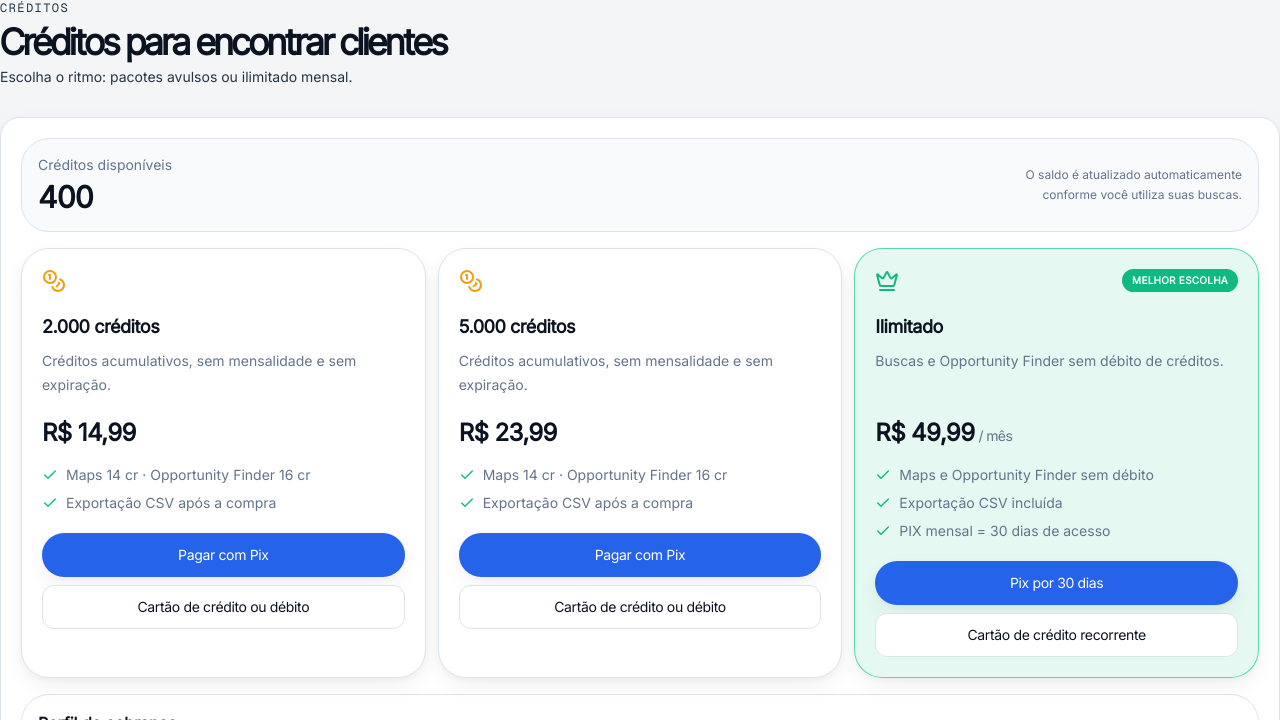
Test: CreditsPage › surfaces the API checkout error instead of a generic billing message
This screenshot has width=1280, height=720.
Click the button "Pagar com Pix" below "R$ 14,99": point(223, 555) 42,533 -> 405,577
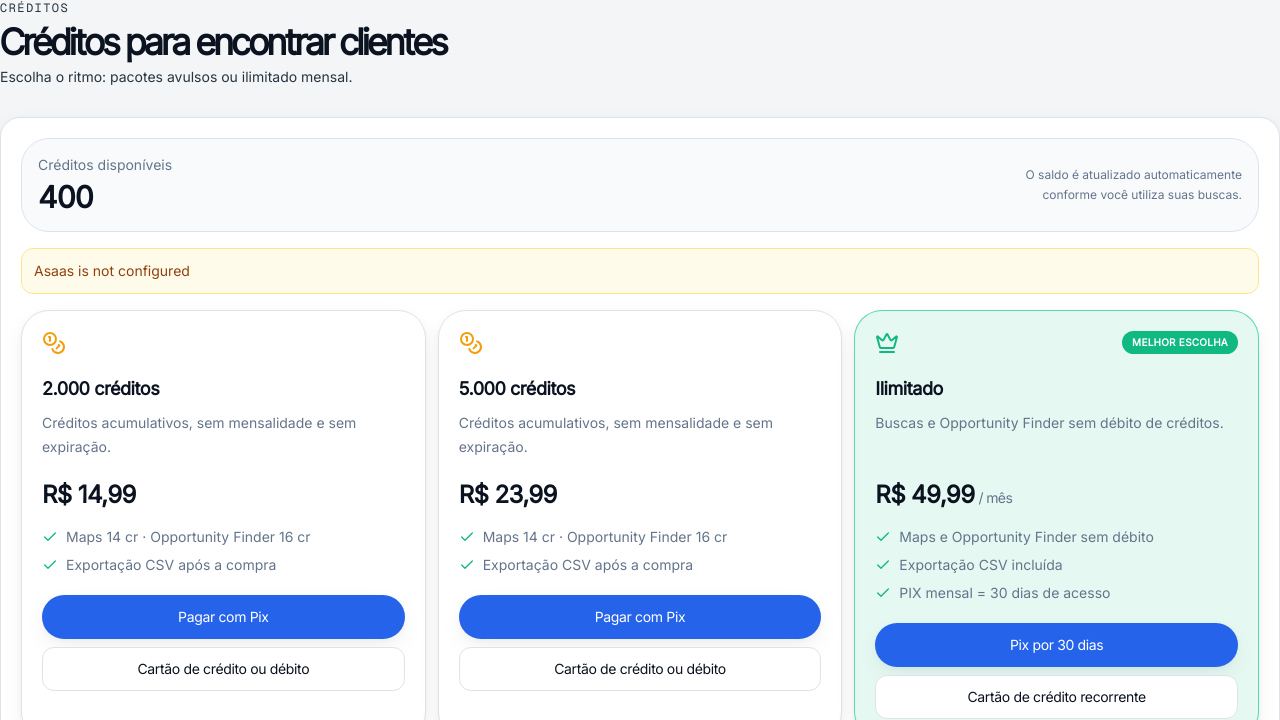
Expected: the message reads "Asaas is not configured", 34,262 -> 190,279
